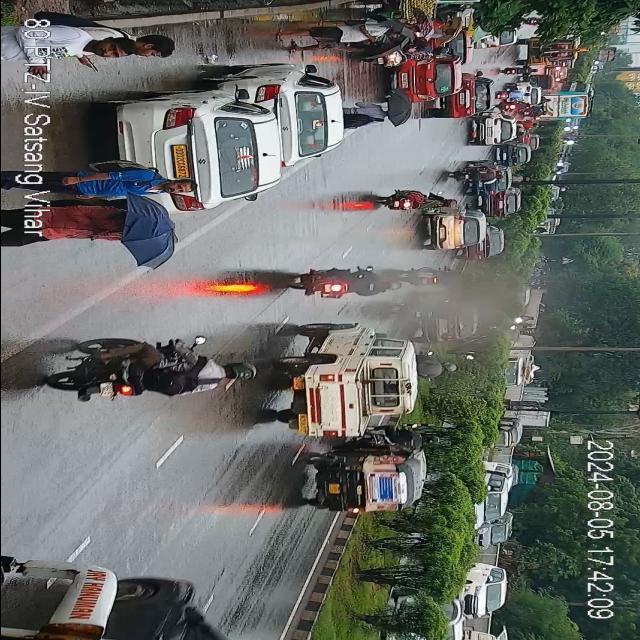2-wheelers: (66, 334, 255, 404), (284, 268, 404, 298), (379, 188, 452, 218), (364, 46, 452, 64), (402, 267, 473, 287), (423, 356, 457, 380), (447, 169, 503, 183), (504, 64, 544, 78), (494, 88, 528, 104)
auto: (300, 432, 426, 522), (500, 418, 520, 452)
bus: (0, 553, 238, 640), (545, 82, 589, 120)
car: (126, 90, 276, 206), (232, 68, 340, 162), (111, 563, 241, 640), (422, 199, 480, 254), (414, 295, 479, 339), (394, 58, 456, 102), (462, 562, 508, 621), (441, 76, 495, 118), (414, 602, 462, 640), (465, 113, 517, 144), (468, 226, 504, 262), (472, 160, 508, 196), (486, 191, 516, 221), (498, 142, 530, 166), (508, 83, 540, 93)
pedestrian: (40, 170, 193, 200), (51, 204, 132, 248), (83, 27, 180, 61), (276, 27, 403, 42), (408, 16, 464, 50), (286, 41, 400, 56), (344, 106, 390, 128)
truck: (280, 324, 424, 442), (516, 38, 585, 66)
